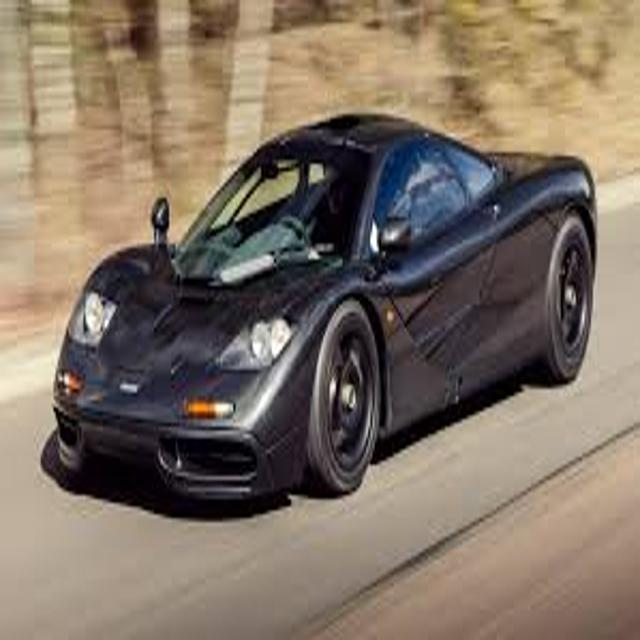car: (53, 115, 597, 499)
